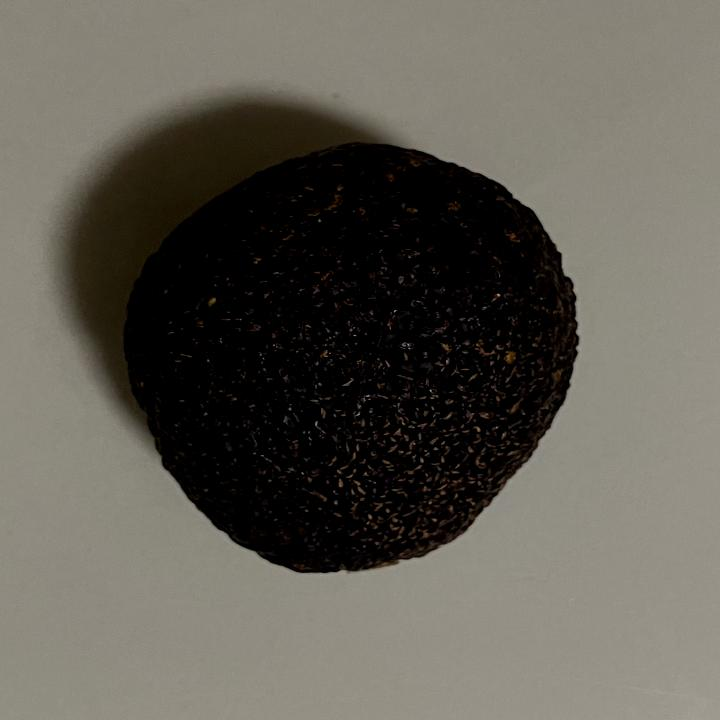Level3: (110, 134, 590, 586)
